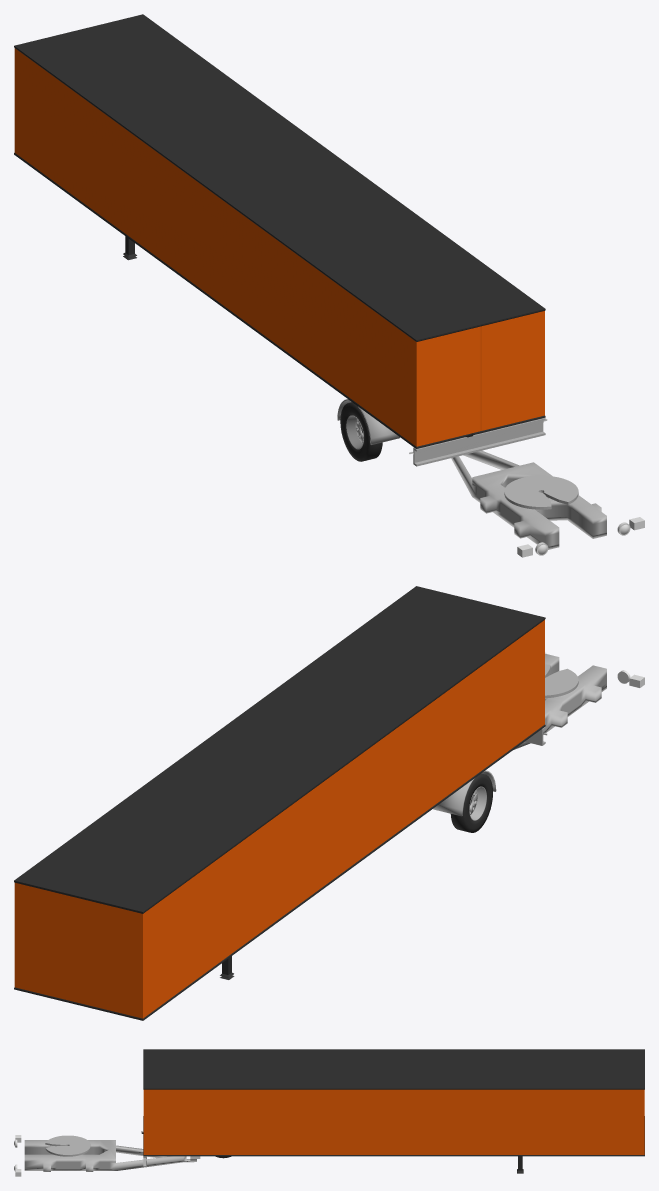
Rendered from Cadealack_RoadTrain_trailer.glb.
The picture shows the model from 3 angles, top to bottom: view 1: azimuth 30°, elevation 25°; view 2: azimuth 150°, elevation 25°; view 3: azimuth 270°, elevation 25°; orthographic projection. The views are drawn at different scales.
Visible parts, largest first — view 1: TrailerMainMaterial2, TrailerMainMaterial1, CadealackRear.001, RearBumper_trailer, Sattle.001, "tire_trailer"; view 2: TrailerMainMaterial2, TrailerMainMaterial1, CadealackRear.001, "tire_trailer", Sattle.001, "WheelCover_trailer".000; view 3: TrailerMainMaterial2, TrailerMainMaterial1, CadealackRear.001, Sattle.001.
Boxes of the visible parts, x1,y1,x2,y2 form: TrailerMainMaterial2: [14, 48, 544, 446]; TrailerMainMaterial1: [14, 14, 545, 448]; CadealackRear.001: [451, 450, 606, 549]; RearBumper_trailer: [413, 418, 545, 466]; Sattle.001: [504, 475, 578, 509]; "tire_trailer": [340, 402, 382, 461]; TrailerMainMaterial2: [14, 620, 544, 1018]; TrailerMainMaterial1: [14, 586, 545, 1020]; CadealackRear.001: [514, 653, 606, 749]; "tire_trailer": [450, 773, 492, 832]; Sattle.001: [545, 664, 578, 698]; "WheelCover_trailer".000: [433, 770, 496, 816]; TrailerMainMaterial2: [143, 1089, 644, 1154]; TrailerMainMaterial1: [143, 1049, 644, 1156]; CadealackRear.001: [24, 1140, 193, 1171]; Sattle.001: [45, 1135, 90, 1156].
Bounding box in the file's own units: 2.71 × 3.15 × 17.28.
